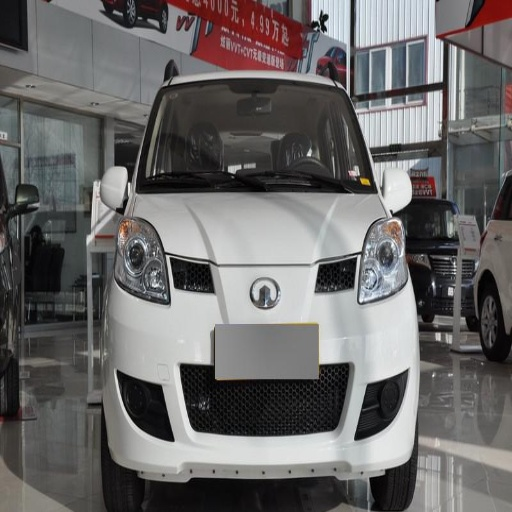front_bumper: (111, 253, 416, 478)
front_right_light: (116, 220, 169, 305)
hood: (134, 192, 382, 264)
left_mirror: (381, 166, 413, 212)
